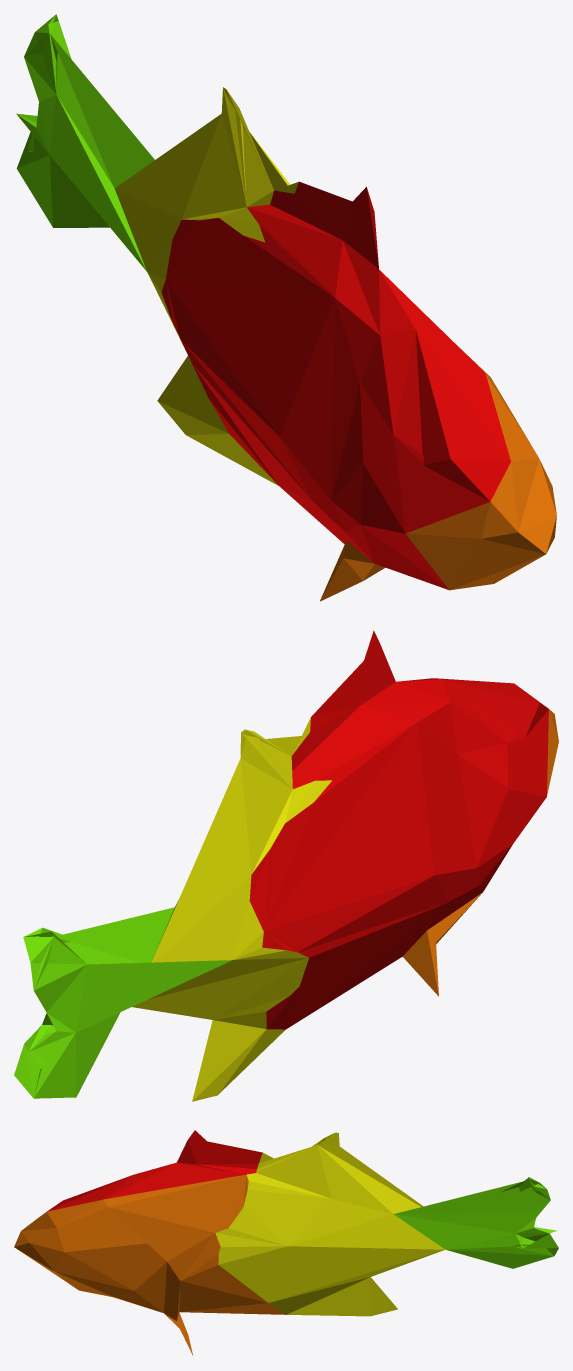
File: boguchi_nanite_LOD4.fbx
3 views of the same model, one above another, from view 1: azimuth 30°, elevation 25°; view 2: azimuth 150°, elevation 25°; view 3: azimuth 270°, elevation 25° (orthographic). The views are drawn at different scales.
Size of the model in its own units: 0.1637 by 0.4228 by 1.
